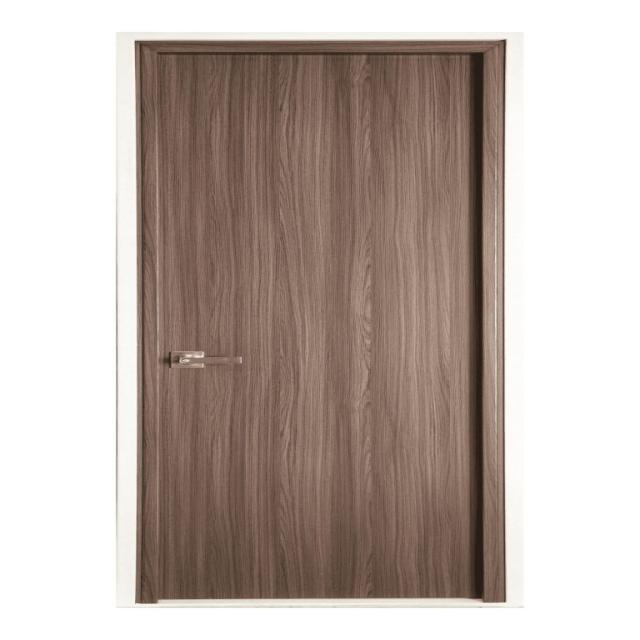door: (128, 36, 504, 604)
